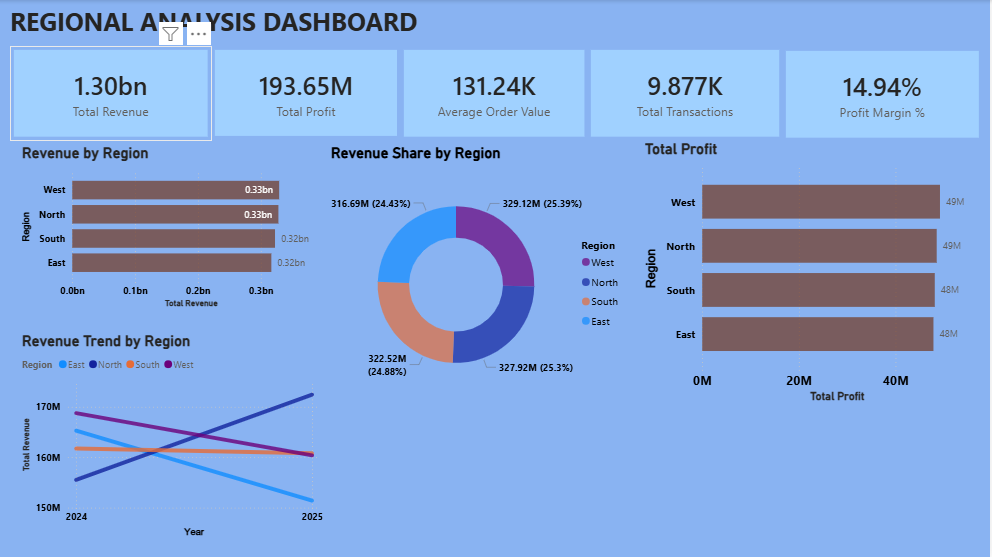

The dashboard page shown, as its layout file describes it:
{"tool":"powerbi","page":{"name":"Regional Analysis","canvas":[1280,720],"ordinal":2},"visuals":[{"type":"textbox","box":[10.6,0,550,60.6],"z":0},{"type":"cardVisual","fields":{"Data":["final_cleaned_dataset.Average Order Value"]},"box":[518.2,59.1,243.9,122.7],"z":1},{"type":"cardVisual","fields":{"Data":["final_cleaned_dataset.Profit Margin %"]},"box":[1012.1,60.6,259.1,122.7],"z":2},{"type":"cardVisual","fields":{"Data":["final_cleaned_dataset.Total Profit"]},"box":[274.2,59.8,245.5,121.2],"z":3},{"type":"cardVisual","fields":{"Data":["final_cleaned_dataset.Total Revenue"]},"box":[15.2,59.1,260.6,122.7],"z":4},{"type":"cardVisual","fields":{"Data":["final_cleaned_dataset.Total Transactions"]},"box":[760.6,59.8,253,122.7],"z":5},{"type":"clusteredBarChart","title":"Revenue by Region","fields":{"Category":["final_cleaned_dataset.Region"],"Y":["final_cleaned_dataset.Total Revenue"]},"box":[25.8,186.4,398.5,216.7],"z":6},{"type":"clusteredBarChart","title":"Total Profit","fields":{"Category":["final_cleaned_dataset.Region"],"Y":["final_cleaned_dataset.Total Profit"]},"box":[830.3,180.3,450,343.9],"z":7},{"type":"lineChart","title":"Revenue Trend by Region","fields":{"Category":["final_cleaned_dataset.Order_Date.Variation.Date Hierarchy.Year","final_cleaned_dataset.Order_Date.Variation.Date Hierarchy.Quarter","final_cleaned_dataset.Order_Date.Variation.Date Hierarchy.Month","final_cleaned_dataset.Order_Date.Variation.Date Hierarchy.Day"],"Y":["final_cleaned_dataset.Total Revenue"],"Series":["final_cleaned_dataset.Region"]},"box":[25.8,402.6,398.7,269.7],"z":8},{"type":"donutChart","title":"Revenue Share by Region","fields":{"Category":["final_cleaned_dataset.Region"],"Y":["final_cleaned_dataset.Total Revenue"]},"box":[424.2,186.4,397,340.9],"z":9}]}

Visuals, with their boxes in screenshot pixels (x1, y1, x2, y2), scaled from the page's 1280x720 canvas onto the 992x557 screenshot:
textbox: detection(8, 0, 434, 47)
cardVisual - final_cleaned_dataset.Average Order Value: detection(402, 46, 591, 141)
cardVisual - final_cleaned_dataset.Profit Margin %: detection(784, 47, 985, 142)
cardVisual - final_cleaned_dataset.Total Profit: detection(213, 46, 403, 140)
cardVisual - final_cleaned_dataset.Total Revenue: detection(12, 46, 214, 141)
cardVisual - final_cleaned_dataset.Total Transactions: detection(589, 46, 786, 141)
"Revenue by Region" clusteredBarChart: detection(20, 144, 329, 312)
"Total Profit" clusteredBarChart: detection(643, 139, 991, 406)
"Revenue Trend by Region" lineChart: detection(20, 311, 329, 520)
"Revenue Share by Region" donutChart: detection(329, 144, 636, 408)
